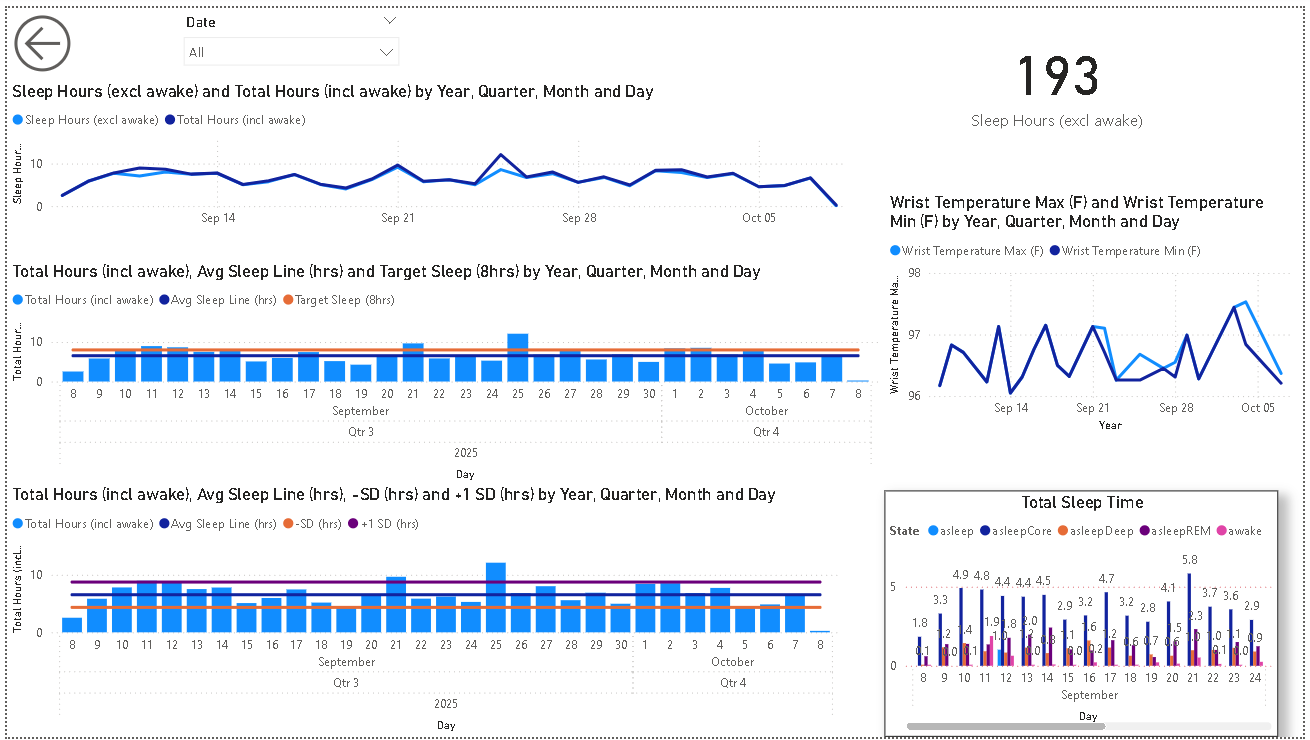

This screenshot's page, from the dashboard's own definition file:
{"tool":"powerbi","page":{"name":"Sleep Insights","canvas":[1280,720],"ordinal":3},"visuals":[{"type":"lineStackedColumnComboChart","fields":{"Category":["DimDate.Date.Variation.Date Hierarchy.Year","DimDate.Date.Variation.Date Hierarchy.Quarter","DimDate.Date.Variation.Date Hierarchy.Month","DimDate.Date.Variation.Date Hierarchy.Day"],"Y":["Sleep.Total Hours (incl awake)"],"Y2":["Sleep.Avg Sleep Line (hrs)","Sleep.Target Sleep (8hrs)"]},"box":[0,249.2,866.4,222.5],"z":0},{"type":"slicer","fields":{"Values":["DimDate.Date"]},"box":[164.7,0,233.3,71.4],"z":1000},{"type":"lineStackedColumnComboChart","fields":{"Category":["DimDate.Date.Variation.Date Hierarchy.Year","DimDate.Date.Variation.Date Hierarchy.Quarter","DimDate.Date.Variation.Date Hierarchy.Month","DimDate.Date.Variation.Date Hierarchy.Day"],"Y":["Sleep.Total Hours (incl awake)"],"Y2":["Sleep.Avg Sleep Line (hrs)","Sleep.-SD (hrs)","Sleep.+1 SD (hrs)"]},"box":[0,470.3,827.8,249.2],"z":2000},{"type":"card","fields":{"Values":["Sleep.Sleep Hours (excl awake)"]},"box":[913.9,19.3,247.8,103.8],"z":3000},{"type":"clusteredColumnChart","title":"Total Sleep Time","fields":{"Category":["DimDate.Date.Variation.Date Hierarchy.Month","DimDate.Date.Variation.Date Hierarchy.Day"],"Y":["Sleep.Total Hours (incl awake)"],"Series":["Sleep.State"]},"box":[866.4,476.2,388.7,243.3],"z":4000},{"type":"lineChart","fields":{"Category":["DimDate.Date.Variation.Date Hierarchy.Year","DimDate.Date.Variation.Date Hierarchy.Quarter","DimDate.Date.Variation.Date Hierarchy.Month","DimDate.Date.Variation.Date Hierarchy.Day"],"Y":["Sleep.Sleep Hours (excl awake)","Sleep.Total Hours (incl awake)"]},"box":[0,71.2,841.2,154.3],"z":5000},{"type":"lineChart","fields":{"Category":["DimDate.Date.Variation.Date Hierarchy.Year","DimDate.Date.Variation.Date Hierarchy.Quarter","DimDate.Date.Variation.Date Hierarchy.Month","DimDate.Date.Variation.Date Hierarchy.Day"],"Y":["DailyMetrics.Wrist Temperature Max (F)","DailyMetrics.Wrist Temperature Min (F)"]},"box":[866.4,181,413.9,241.8],"z":6000},{"type":"actionButton","box":[0,0,118,70],"z":7000}]}

Visuals, with their boxes in screenshot pixels (x1, y1, x2, y2), scaled from the page's 1280x720 canvas onto the 1310x740 screenshot:
lineStackedColumnComboChart - DimDate.Date.Variation.Date Hierarchy.Year x DimDate.Date.Variation.Date Hierarchy.Quarter: left=0, top=256, right=887, bottom=485
slicer - DimDate.Date: left=169, top=0, right=407, bottom=73
lineStackedColumnComboChart - DimDate.Date.Variation.Date Hierarchy.Year x DimDate.Date.Variation.Date Hierarchy.Quarter: left=0, top=483, right=847, bottom=739
card - Sleep.Sleep Hours (excl awake): left=935, top=20, right=1189, bottom=127
"Total Sleep Time" clusteredColumnChart: left=887, top=489, right=1285, bottom=739
lineChart - DimDate.Date.Variation.Date Hierarchy.Year x DimDate.Date.Variation.Date Hierarchy.Quarter: left=0, top=73, right=861, bottom=232
lineChart - DimDate.Date.Variation.Date Hierarchy.Year x DimDate.Date.Variation.Date Hierarchy.Quarter: left=887, top=186, right=1309, bottom=435
actionButton: left=0, top=0, right=121, bottom=72
